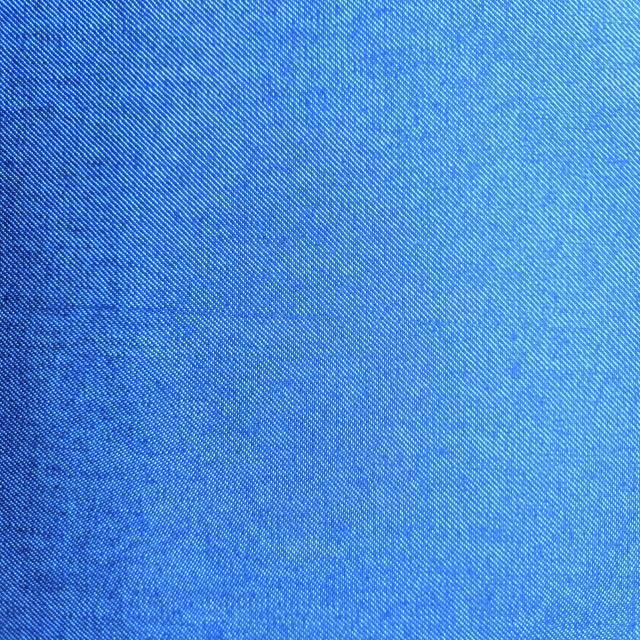Line: (6, 301, 501, 326)
